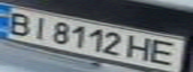1: (84, 26, 106, 53), (66, 22, 87, 50)
2: (103, 29, 127, 57)
8: (48, 19, 72, 46)
B: (3, 8, 36, 37)
E: (148, 37, 187, 67)
H: (127, 34, 157, 62)
I: (24, 15, 54, 40)
